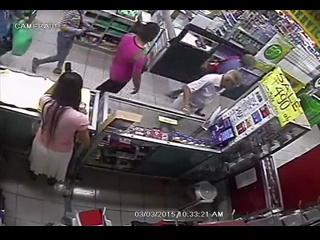Normal: (28, 72, 92, 192), (92, 21, 160, 96), (30, 11, 91, 74), (170, 70, 242, 118)
